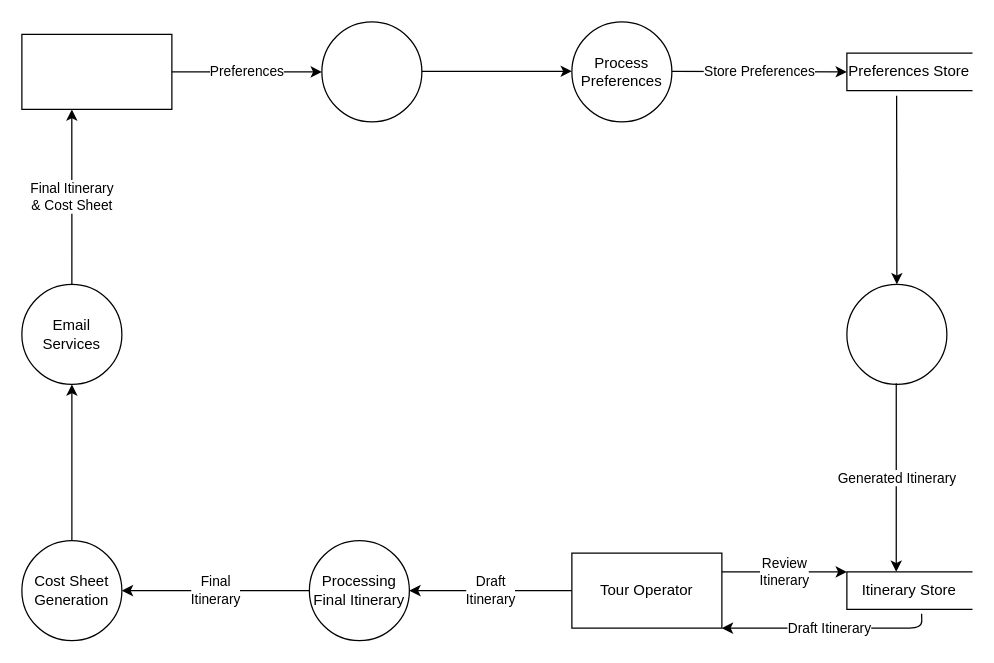
The diagram is 994 pixels wide and 663 high, and some of its shapes have lost their labels. Here are the shapes that lost their labels. From the top down, the centre of each, then its label:
At point 96,71: "Tourist".
At point 371,71: "Chatbot Interaction".
At point 896,333: "Generate Itinerary".
